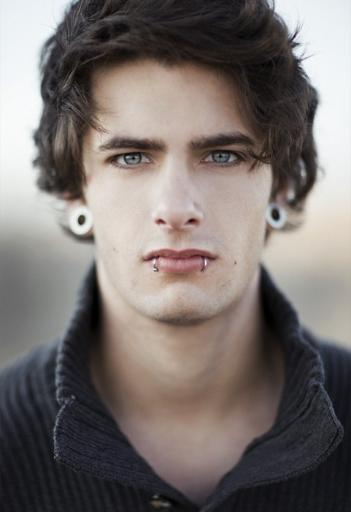left_eye: (198, 147, 249, 170)
left_lip_corner: (208, 251, 224, 271)
right_eye: (106, 151, 158, 173)
right_lip_corner: (139, 252, 155, 273)
